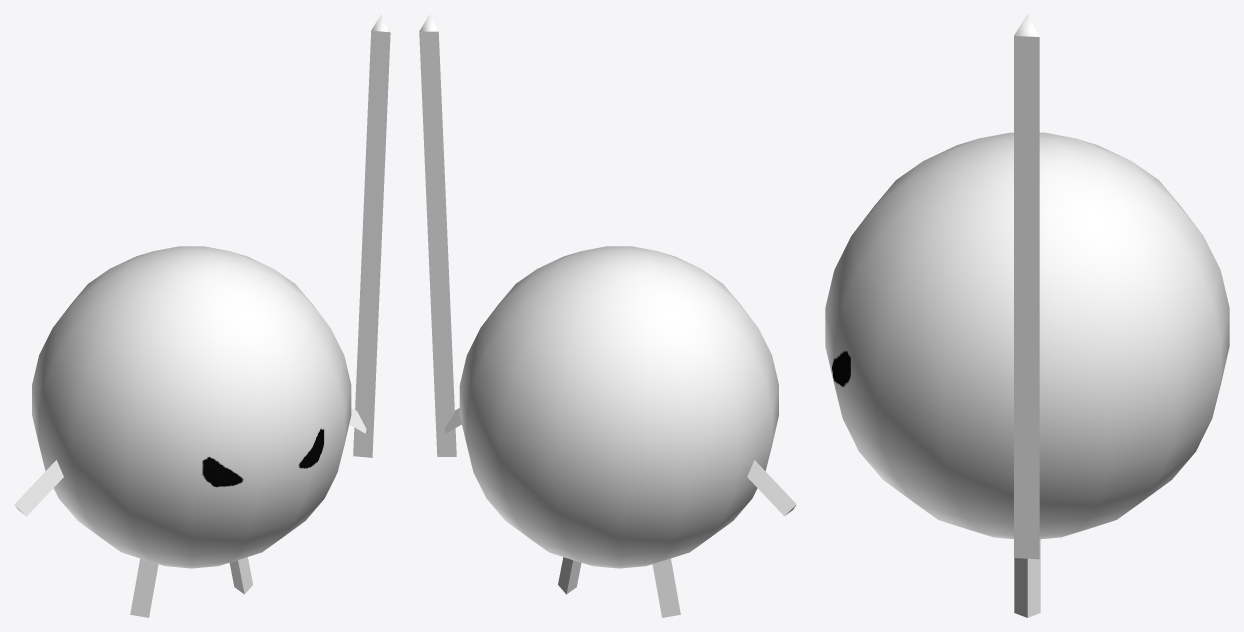
Rendered from enemy02.obj.
3 views of the same model, side by side, from view 1: azimuth 30°, elevation 25°; view 2: azimuth 150°, elevation 25°; view 3: azimuth 270°, elevation 25° (orthographic). The views are drawn at different scales.
Parts seen in each view (by area): view 1: pSphere1, pCylinder2, pasted__pCylinder1 group, pCylinder1; view 2: pSphere1, pCylinder2, pasted__pCylinder1 group, pCylinder1; view 3: pSphere1, pCylinder2, pasted__pCylinder1 group.
Boxes of the visible parts, x1=… form: pSphere1: x1=32, y1=246, x2=351, y2=568; pCylinder2: x1=353, y1=14, x2=390, y2=457; pasted__pCylinder1 group: x1=130, y1=557, x2=253, y2=617; pCylinder1: x1=14, y1=408, x2=366, y2=516; pSphere1: x1=459, y1=246, x2=778, y2=568; pCylinder2: x1=419, y1=14, x2=456, y2=456; pasted__pCylinder1 group: x1=558, y1=557, x2=680, y2=617; pCylinder1: x1=444, y1=408, x2=796, y2=516; pSphere1: x1=825, y1=132, x2=1229, y2=539; pCylinder2: x1=1014, y1=14, x2=1039, y2=559; pasted__pCylinder1 group: x1=1014, y1=539, x2=1040, y2=617.
Bounding box in the file's own units: 2.67 × 3.71 × 1.98.
2 materials, 1 textured.
